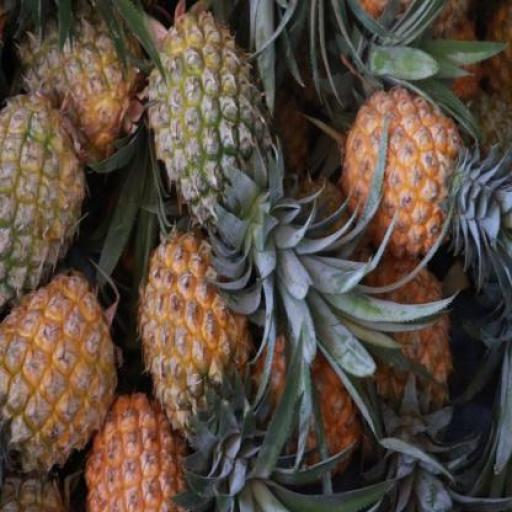------------------------------: (145, 6, 276, 228), (20, 1, 140, 159), (1, 95, 88, 290)
Pineapple - v8 v1: (0, 268, 119, 466), (137, 234, 254, 432), (340, 87, 461, 272), (85, 391, 197, 512)
